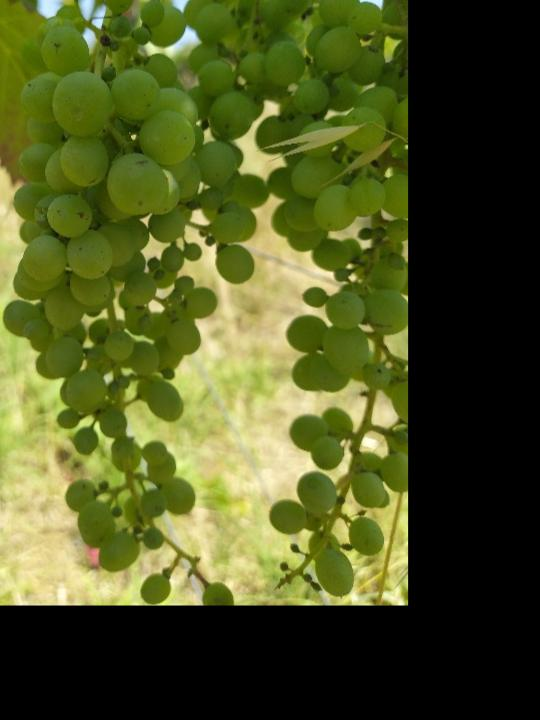grape: (0, 0, 268, 600)
